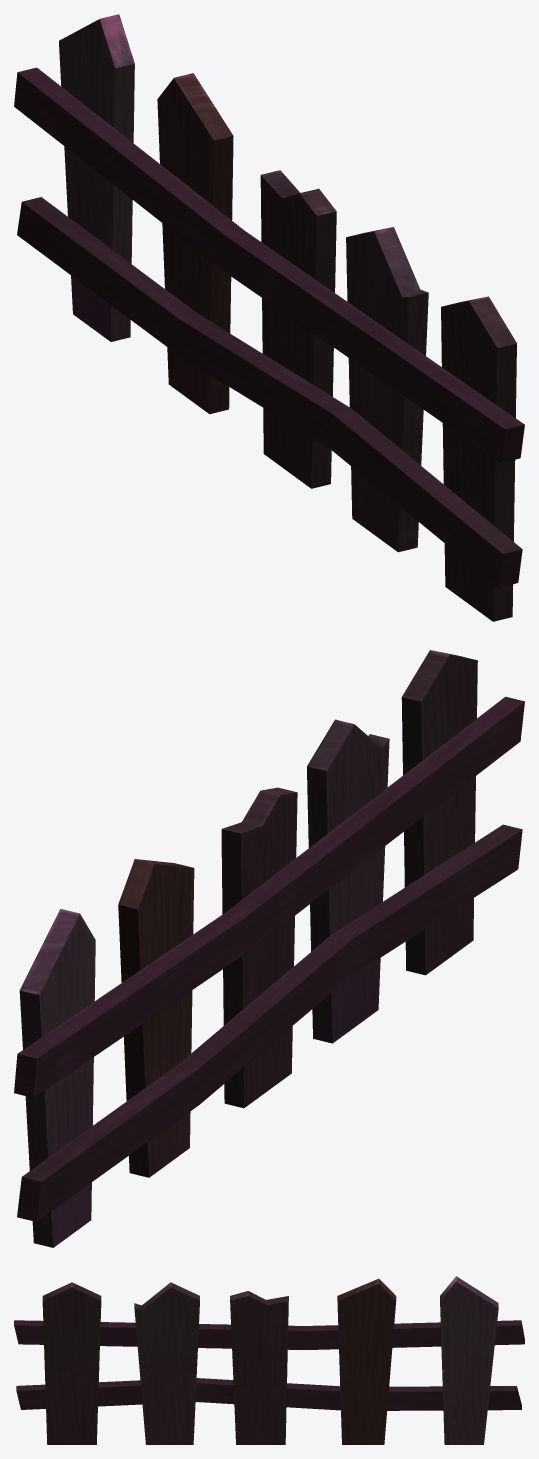
Rendered from modelFence1-1.fbx.
3 renders of one model, top to bottom at view 1: azimuth 30°, elevation 25°; view 2: azimuth 150°, elevation 25°; view 3: azimuth 270°, elevation 25°, orthographic. The views are drawn at different scales.
Visible parts, largest first — view 1: modelFence002; view 2: modelFence002; view 3: modelFence002.
Boxes of the visible parts, x1,y1,x2,y2 form: modelFence002: (14,14,524,621); modelFence002: (14,650,524,1247); modelFence002: (14,1276,524,1444).
Size of the model in its own units: 4.16 by 31.95 by 90.37.
